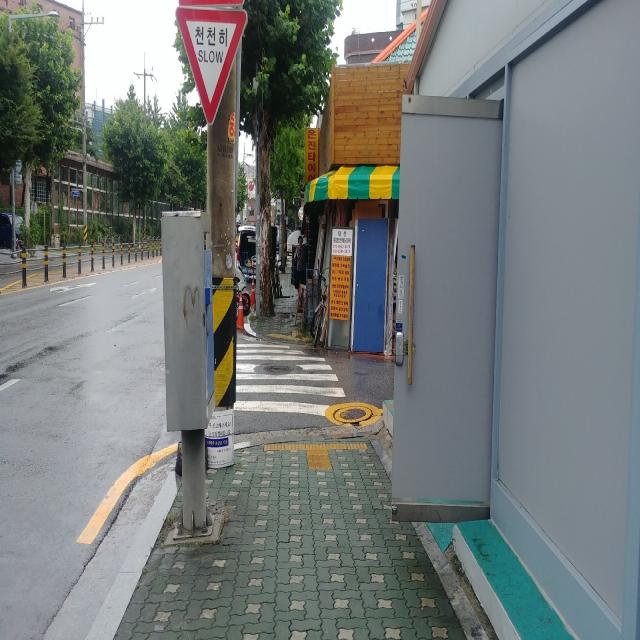횡단보도: (233, 342, 346, 417)
